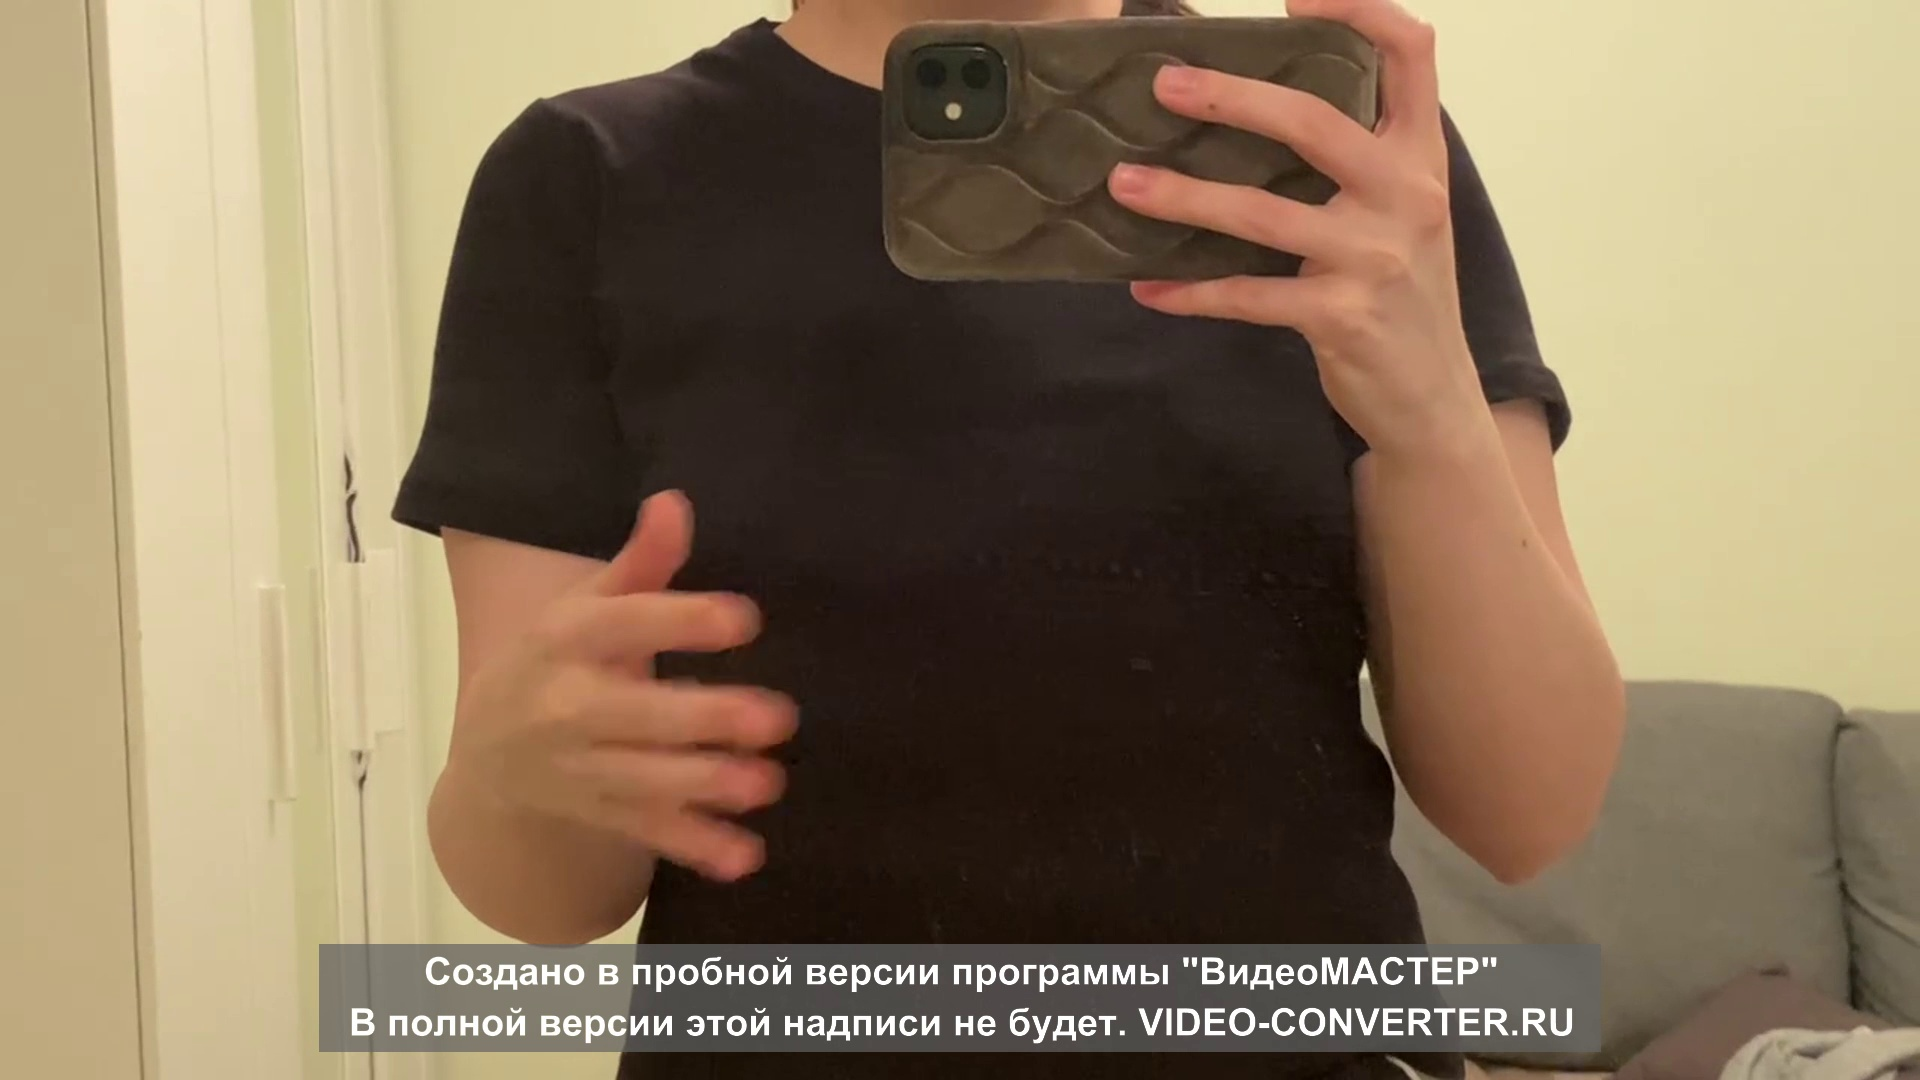Кисть: (452, 485, 799, 880)
